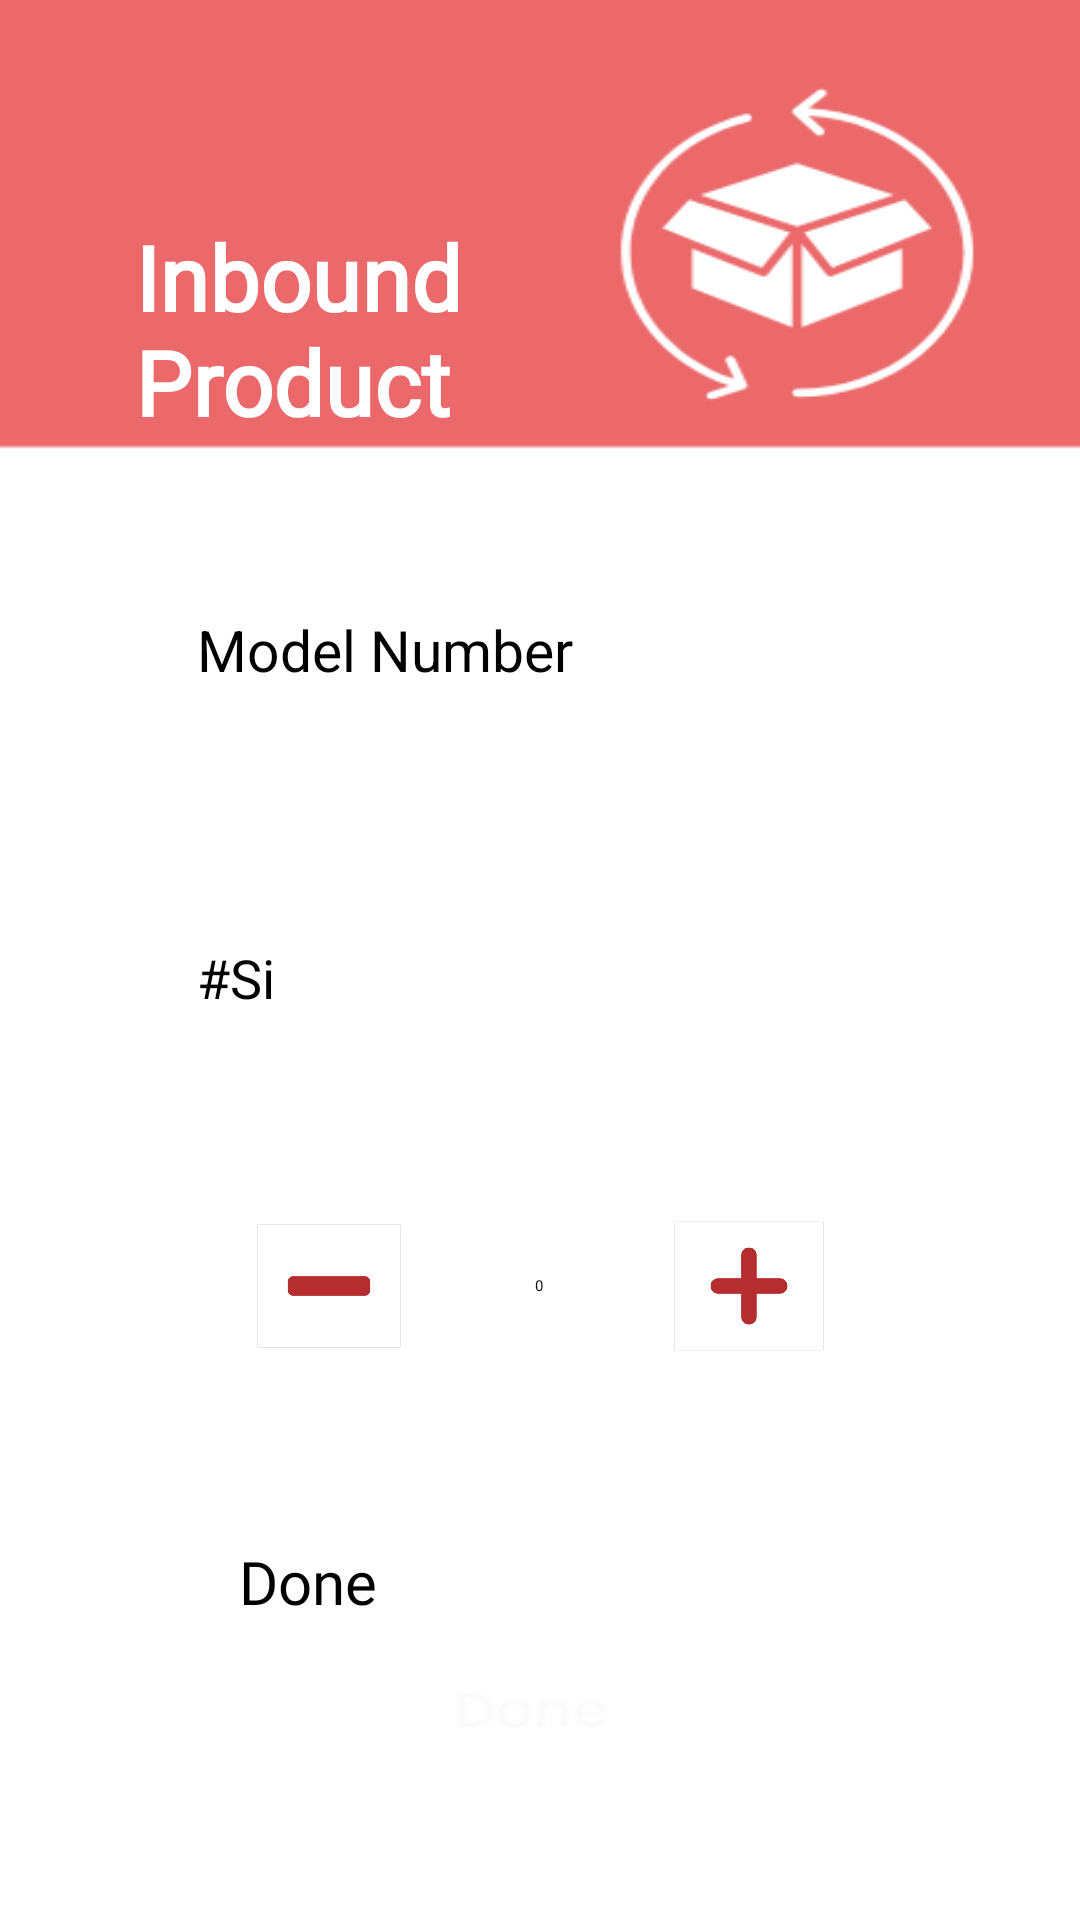

Icon click points for this 1080w x 1920h phone screenshot, format (x,y):
minus: (329,1286)
plus: (749,1286)
